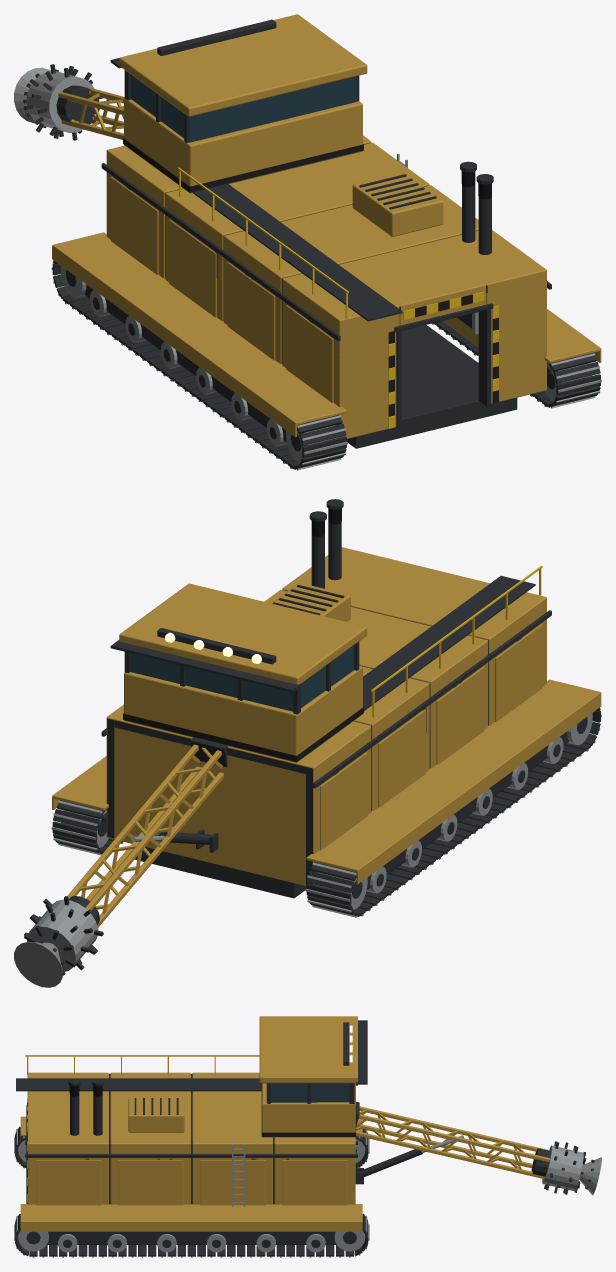
File: site_crawler.glb
3 renders of one model, top to bottom at view 1: azimuth 30°, elevation 25°; view 2: azimuth 150°, elevation 25°; view 3: azimuth 270°, elevation 25°, orthographic. The views are drawn at different scales.
Parts seen in each view (by area): view 1: brace_h0_-1, belly, beam0, cab_glass, cab_stripe, hrail; view 2: brace_h0_-1, belly, beam0, cab_glass, cab_stripe, hrail; view 3: brace_h0_-1, belly, beam0, cab_glass, hrail, cab_stripe.
Part boxes in pixels (<box>): brace_h0_-1: <box>52,14,601,438</box>; belly: <box>23,19,600,469</box>; beam0: <box>14,67,601,470</box>; cab_glass: <box>130,74,357,142</box>; cab_stripe: <box>123,137,498,416</box>; hrail: <box>177,167,498,428</box>; brace_h0_-1: <box>52,547,601,927</box>; belly: <box>24,499,600,975</box>; beam0: <box>14,713,601,987</box>; cab_glass: <box>129,645,354,711</box>; cab_stripe: <box>123,707,363,761</box>; hrail: <box>371,565,542,717</box>; brace_h0_-1: <box>20,1016,549,1231</box>; belly: <box>15,1020,594,1256</box>; beam0: <box>14,1128,601,1257</box>; cab_glass: <box>266,1083,349,1102</box>; hrail: <box>25,1055,259,1202</box>; cab_stripe: <box>27,1083,355,1203</box>.
Bounding box in the file's own units: 10.6 × 7.81 × 25.09.
